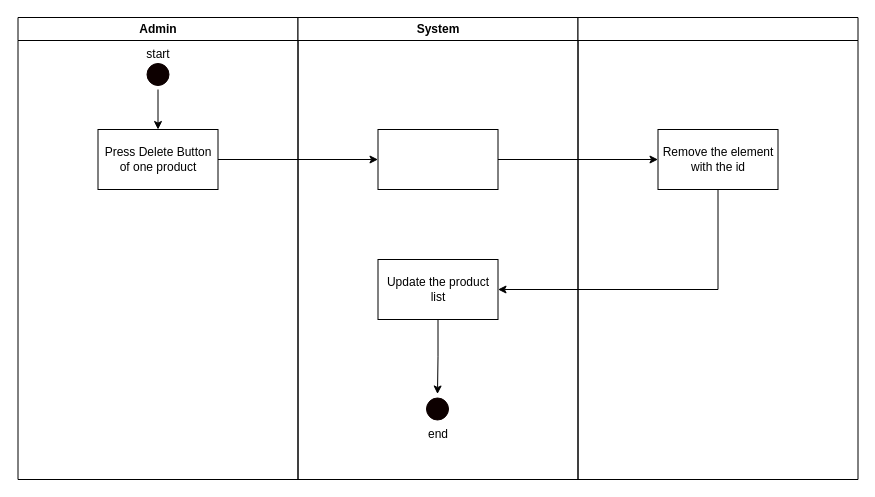
The diagram is 875 pixels wide and 497 high, and some of its shapes have lost their labels. The box of each missing label's shape, as (x1, y1, x2, y2) in pixels:
Database: (577, 16, 858, 480)
Gets the Id of the product to remove: (377, 128, 498, 190)
